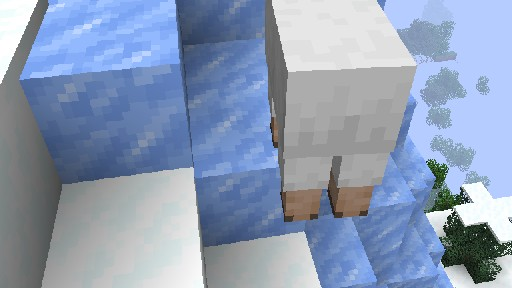sheep: (263, 0, 417, 221)
